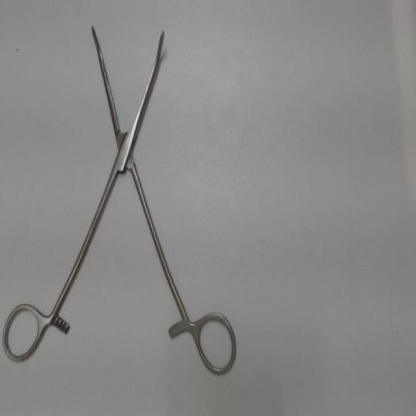Lahey Forceps: (0, 19, 242, 384)
